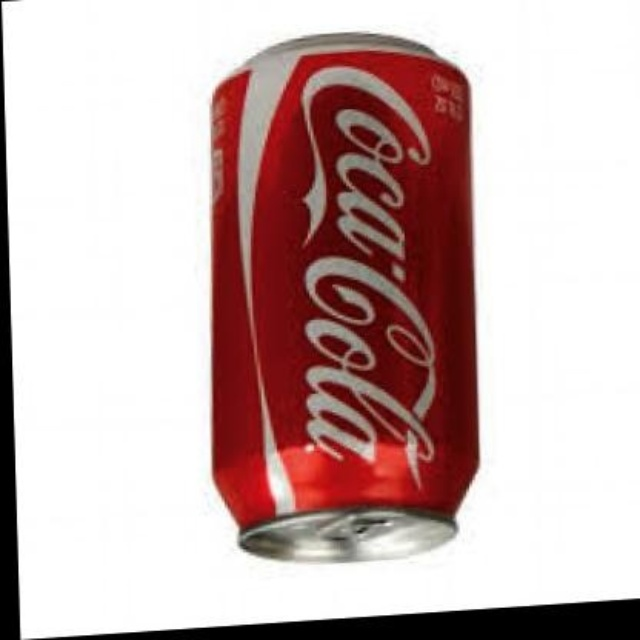trash: (212, 34, 477, 558)
